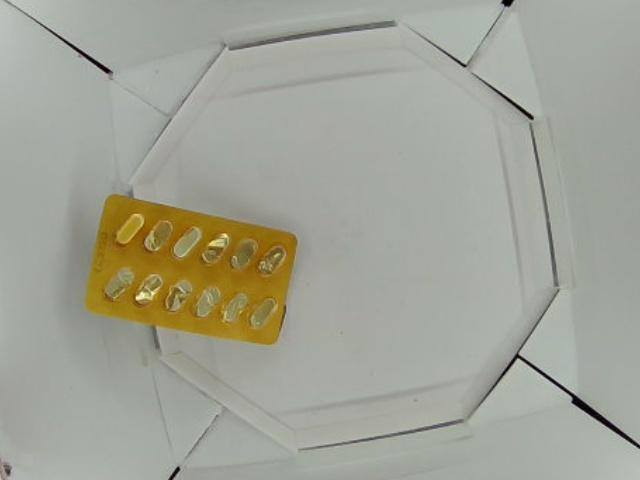Medicine: (80, 193, 298, 346)
